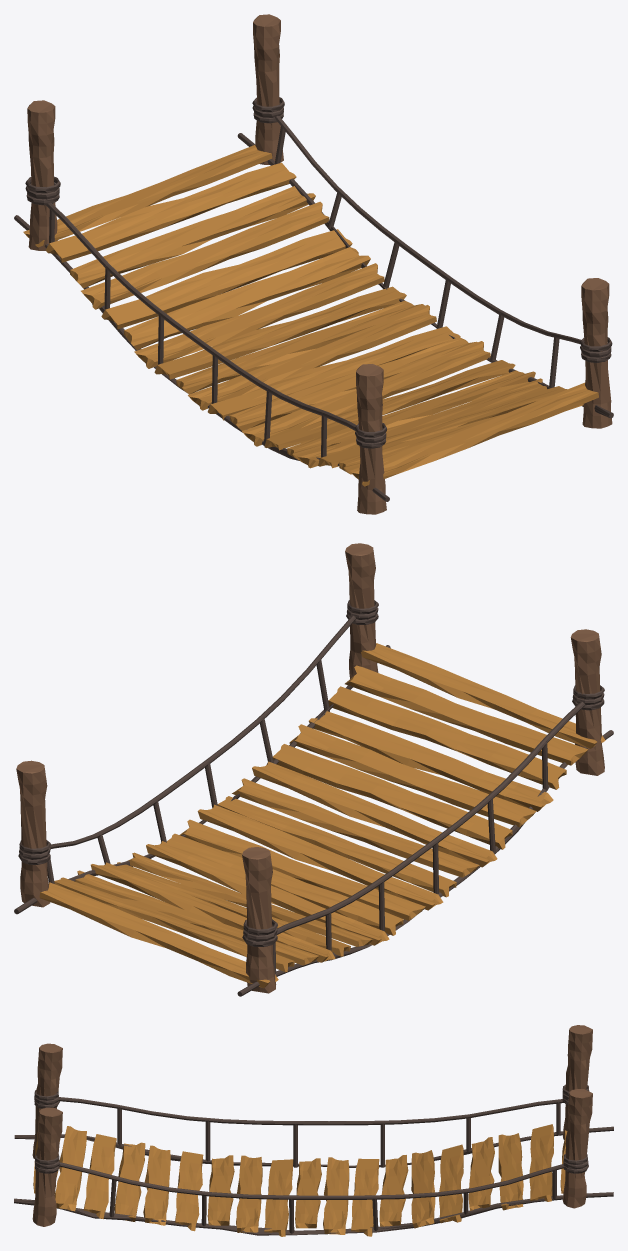
The model's file is C_Ponte.fbx.
The picture shows the model from 3 angles, top to bottom: view 1: azimuth 30°, elevation 25°; view 2: azimuth 150°, elevation 25°; view 3: azimuth 270°, elevation 25°; orthographic projection. The views are drawn at different scales.
Visible parts, largest first — view 1: Cylinder.007; view 2: Cylinder.007; view 3: Cylinder.007.
Boxes of the visible parts, x1,y1,x2,y2 form: Cylinder.007: (14,14,613,514); Cylinder.007: (14,543,613,996); Cylinder.007: (14,1025,613,1236).
Bounding box in the file's own units: 718 × 553 × 1816.
